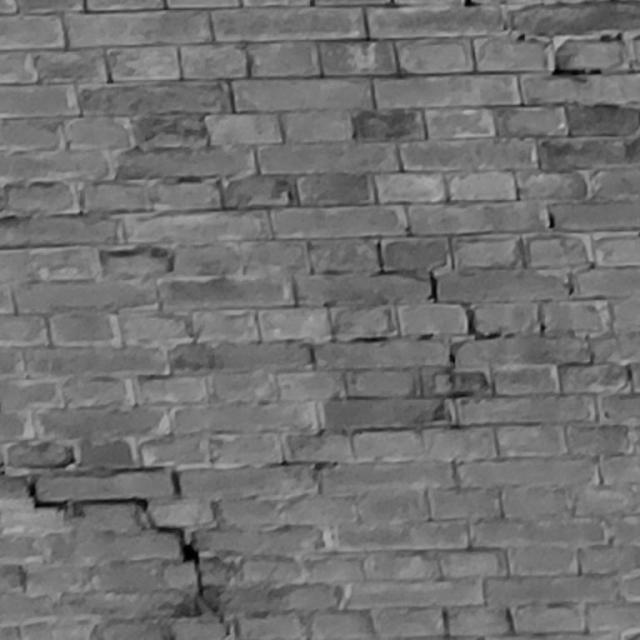crack: (0, 458, 232, 640)
